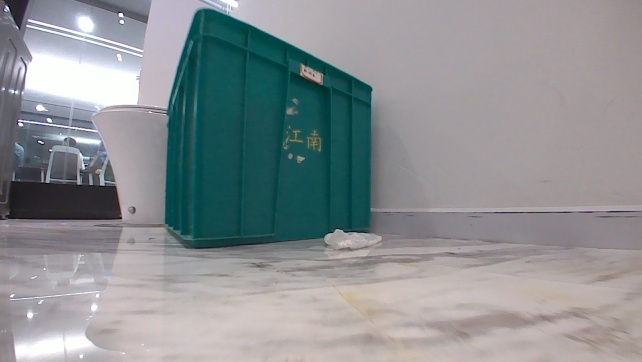socks: (321, 226, 384, 252)
toilet: (88, 100, 171, 228)
